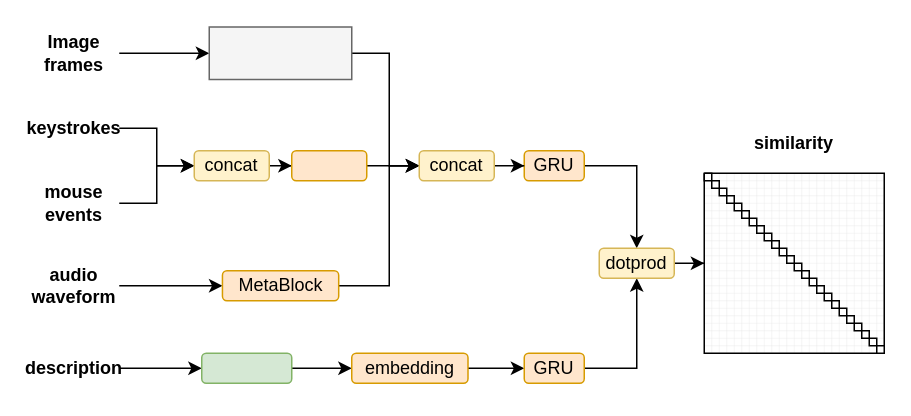
The diagram is 911 pixels wide and 416 high, and some of its shapes have lost their labels. The box of each missing label's shape, as (x1, y1, x2, y2) in pixels:
dense: (290, 149, 367, 181)
InceptionV3: (208, 26, 352, 80)
tokenizer: (200, 352, 292, 383)
